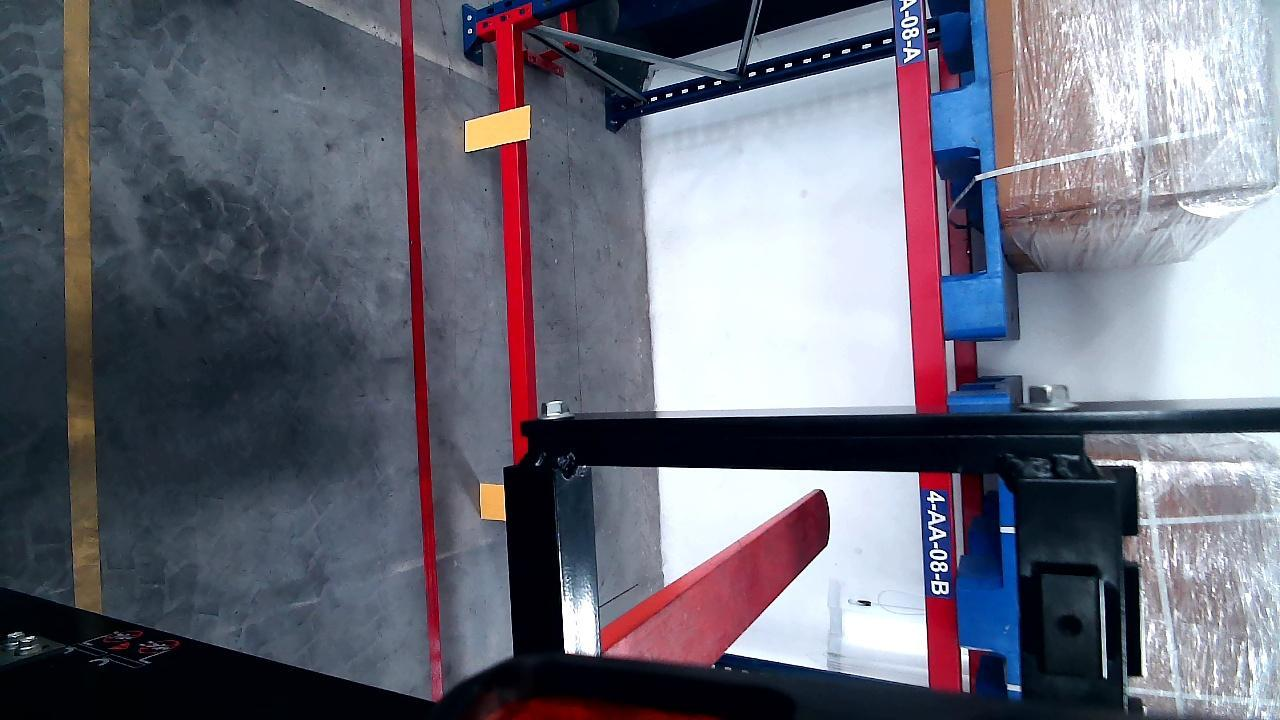red_line: (397, 0, 447, 700)
yellow_line: (60, 0, 101, 612)
